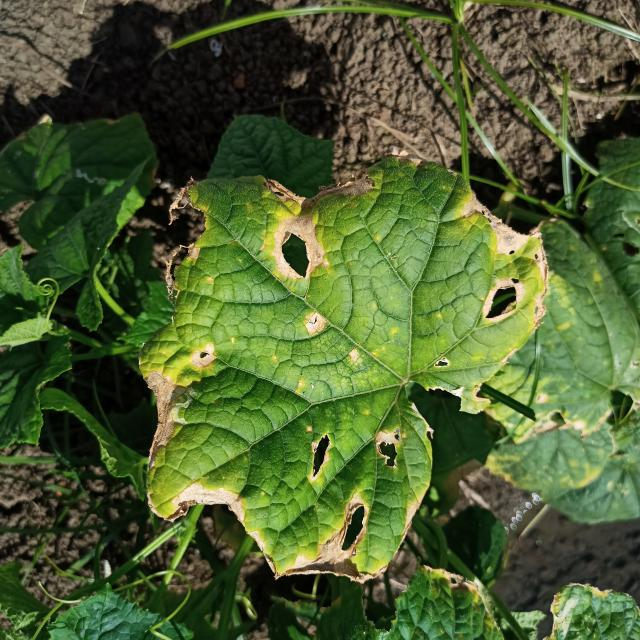disease_cucumber: (138, 155, 547, 579)
